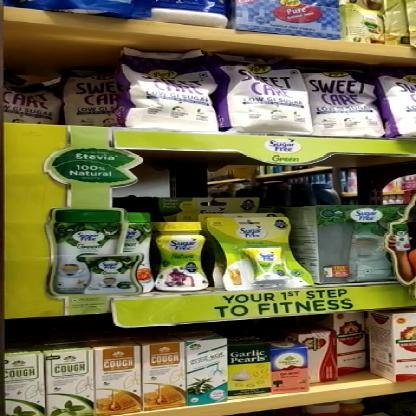SUGAR FREE NATURA 500 PELLET: (221, 216, 290, 290)
SUGAR FREE NATURA_ POWDER_CONC_100G: (154, 222, 202, 292)
